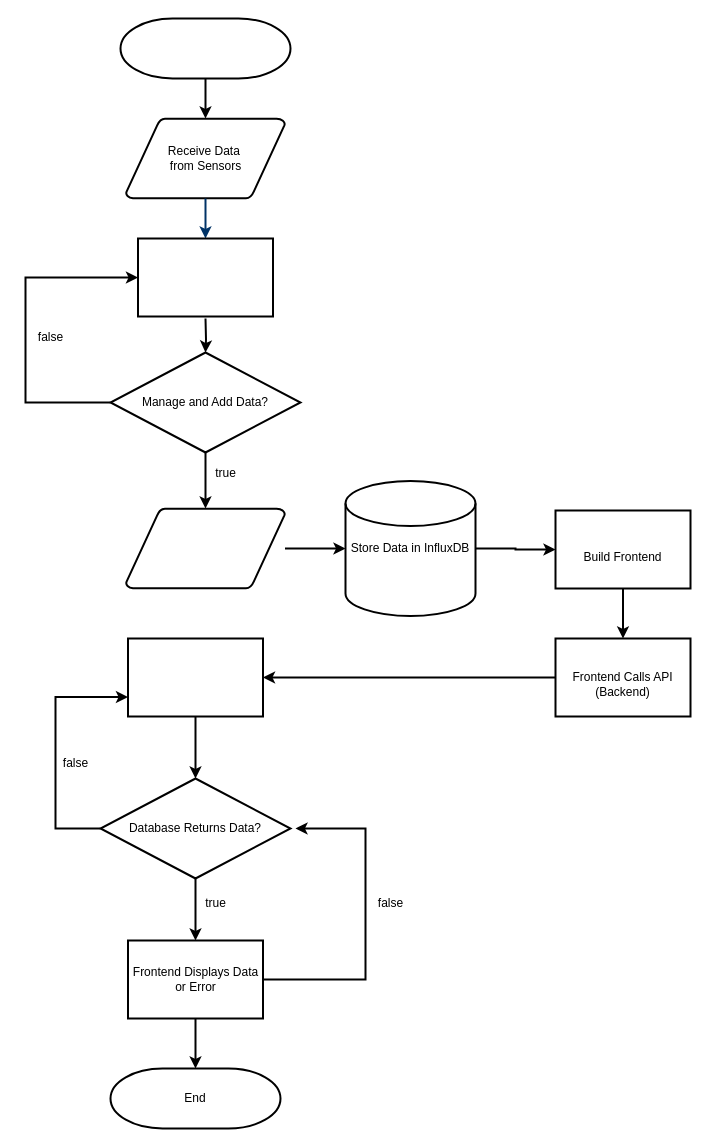
Image size: 708x1146. Some labels were removed from this diagram. Each missing label, with the box of its shape:
Analyze Sensor Data: (136, 237, 274, 317)
Backend Queries Database: (126, 637, 264, 717)
New Data: (124, 507, 286, 589)
Start: (119, 17, 291, 79)
